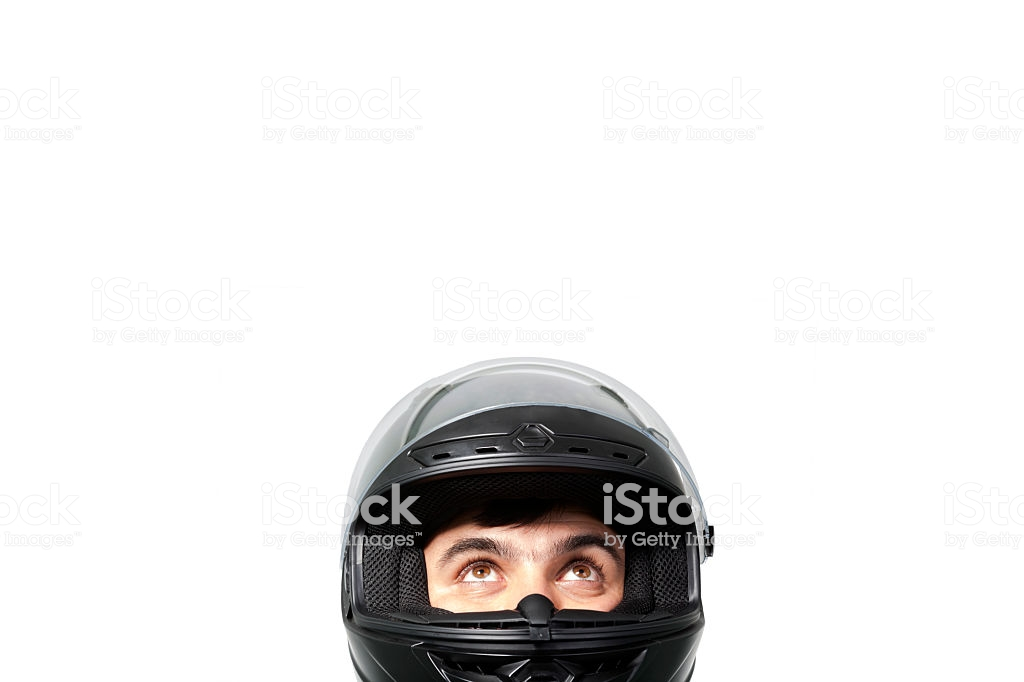helmet: (344, 368, 703, 682)
